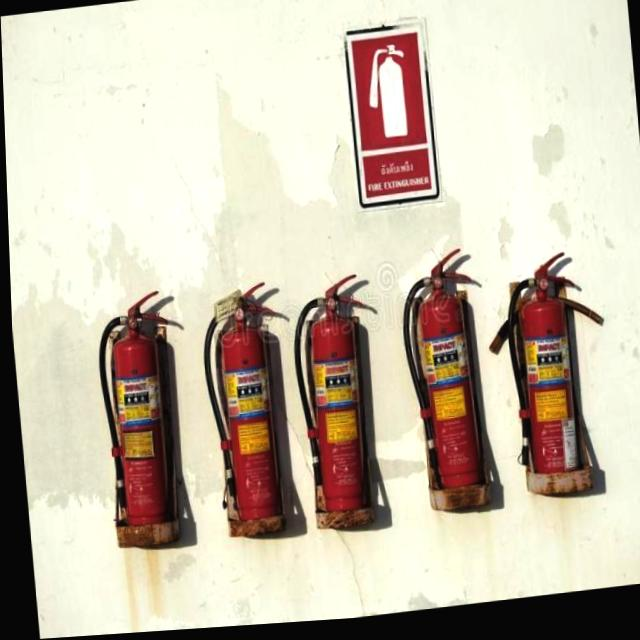FireExtinguisher: (387, 245, 491, 519), (191, 274, 292, 537), (283, 273, 382, 529), (493, 249, 593, 502), (87, 286, 185, 538)
